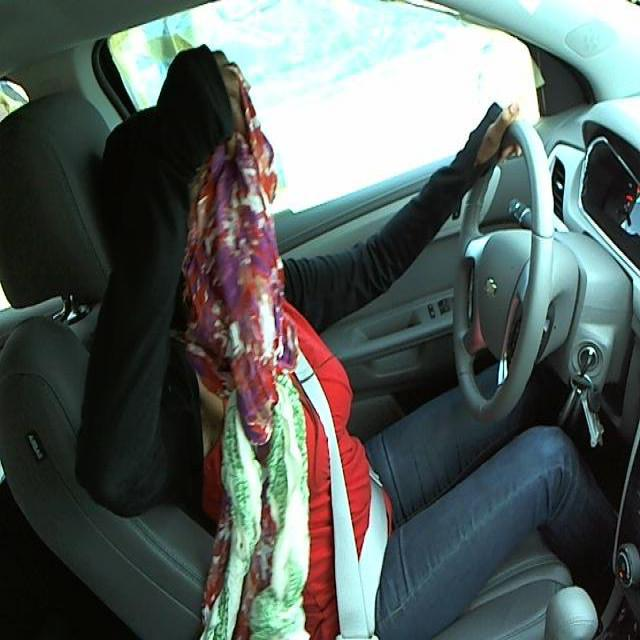seatbelt: (295, 354, 391, 638)
